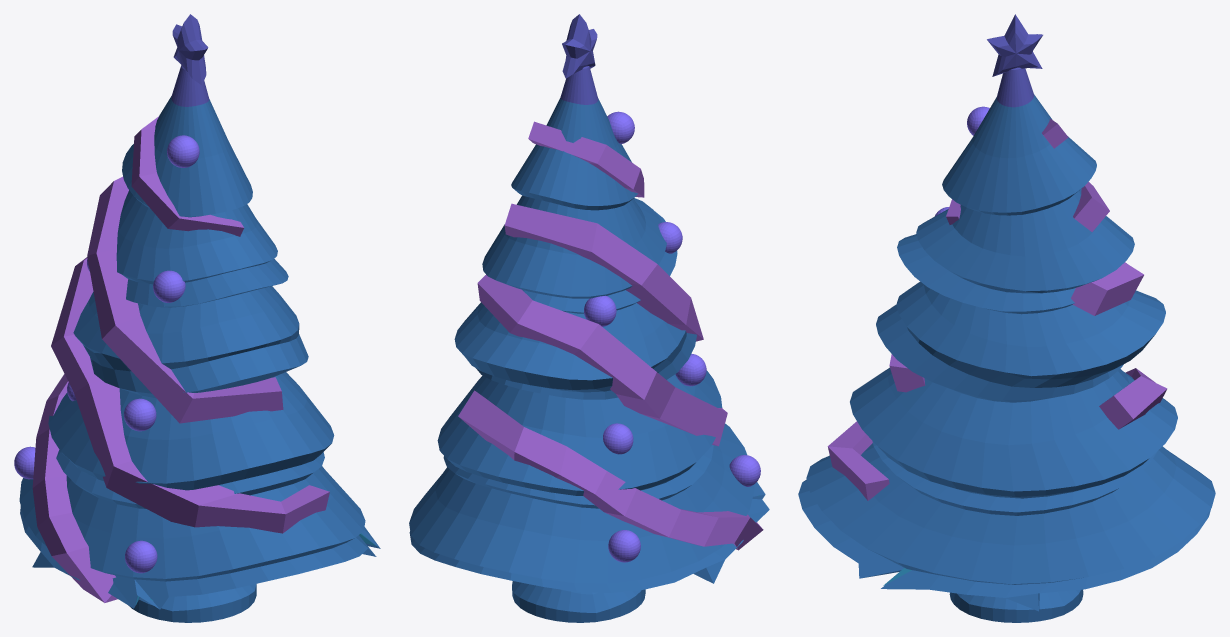
The model's file is TreeNormal.fbx.
3 renders of one model, left to right at view 1: azimuth 30°, elevation 25°; view 2: azimuth 150°, elevation 25°; view 3: azimuth 270°, elevation 25°, orthographic.
Parts seen in each view (by area): view 1: Tree; view 2: Tree; view 3: Tree.
Part boxes in pixels (left/top/right/bottom): Tree: left=14, top=14, right=380, bottom=622; Tree: left=409, top=14, right=769, bottom=622; Tree: left=798, top=14, right=1215, bottom=622.
Size of the model in its own units: 590 by 1116 by 726.
1 material, 1 textured.
